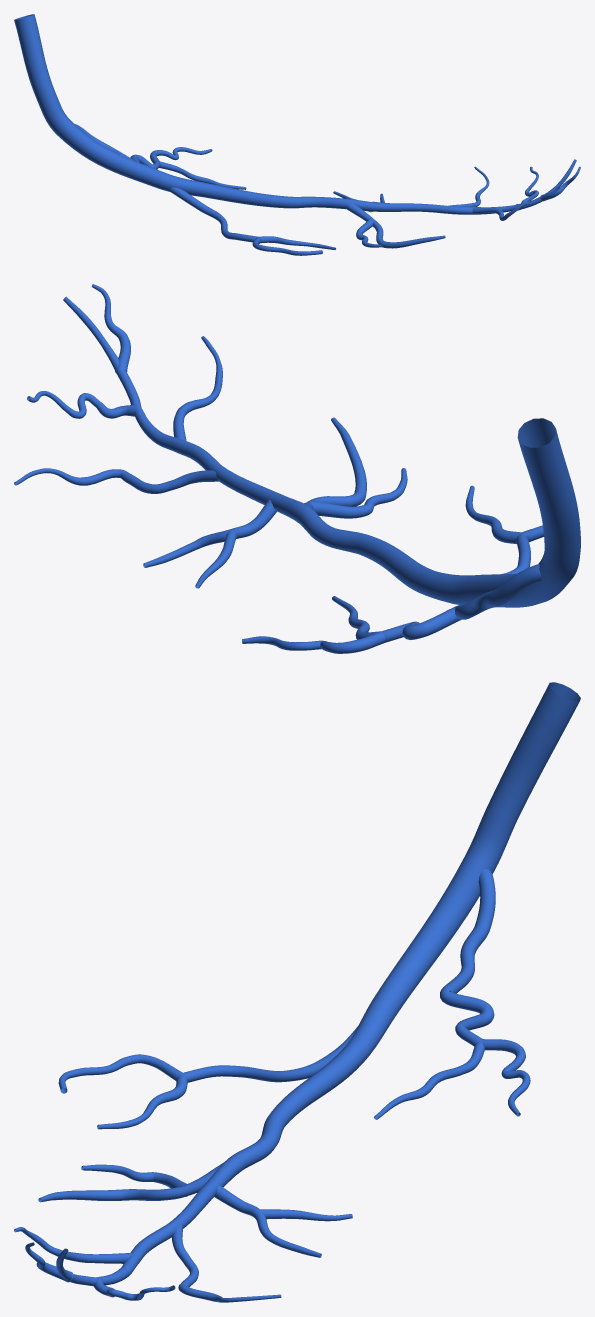
File: circulatorio-middle-cardiac-vein.glb
3 views of the same model, one above another, from view 1: azimuth 30°, elevation 25°; view 2: azimuth 150°, elevation 25°; view 3: azimuth 270°, elevation 25° (orthographic). The views are drawn at different scales.
Visible parts, largest first — view 1: Middle cardiac vein; view 2: Middle cardiac vein; view 3: Middle cardiac vein.
Boxes of the visible parts, left/top/right/bottom form: Middle cardiac vein: left=14, top=14, right=580, bottom=255; Middle cardiac vein: left=14, top=284, right=580, bottom=653; Middle cardiac vein: left=14, top=682, right=580, bottom=1302.
Size of the model in its own units: 0.0714 by 0.033 by 0.0501.
